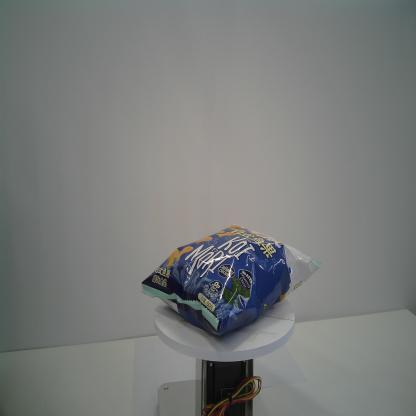Puffed Food: (140, 222, 324, 336)
